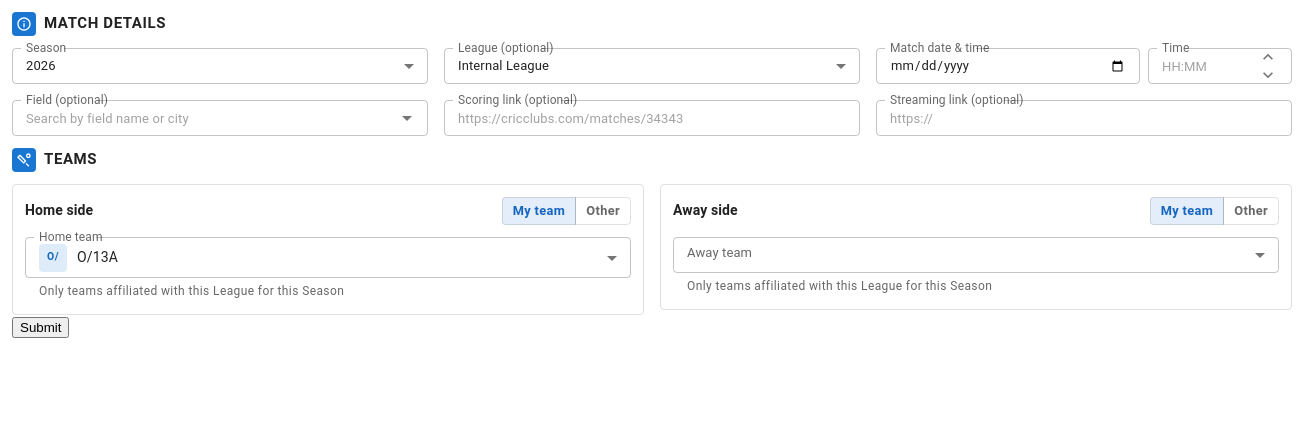
Test case: MatchForm › LeagueAffiliation narrowing › still shows an already-selected team even if it falls outside the narrowed affiliation set
What coordinates should you click on to do the following:
click the dropdown named "Home team"
I would click on:
 (78, 258)
Its box is x1=39 y1=244 x2=118 y2=272.
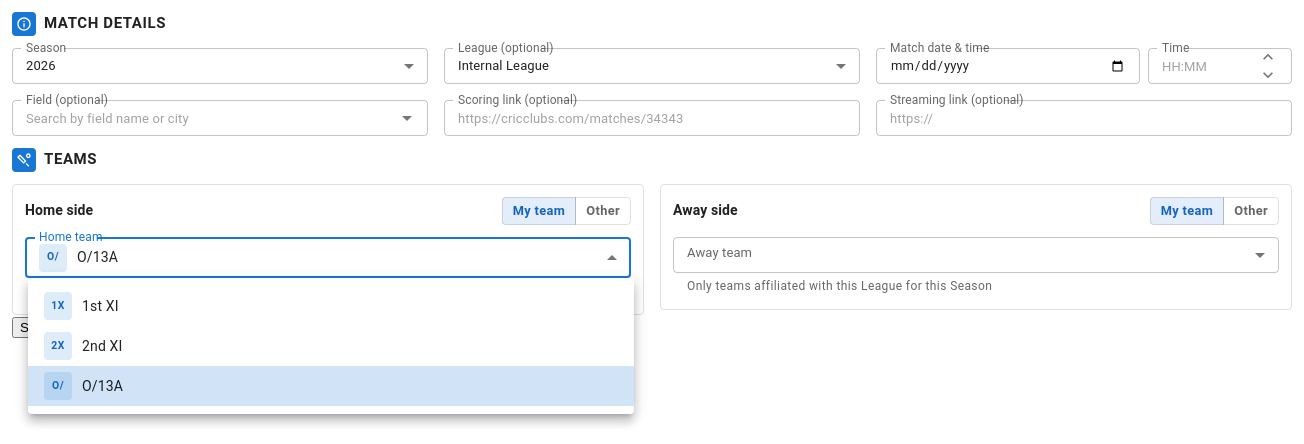
Expected: the option "O/ O/13A" is shown, x1=28 y1=366 x2=634 y2=406
